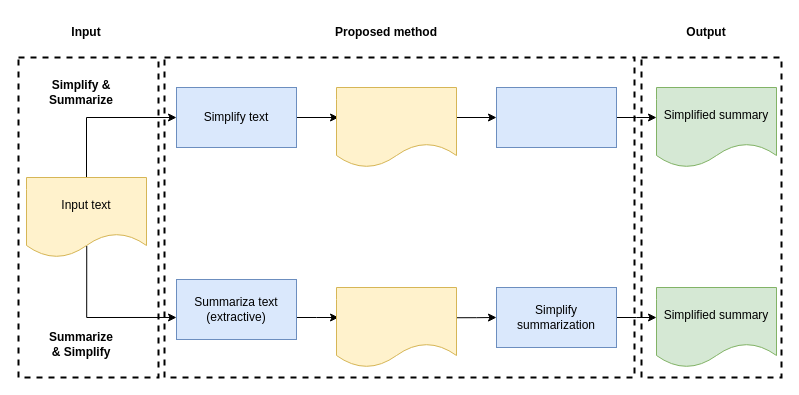
This 799x395 diagram has some shape labels left out. The shapes that lost their labels are listed below. From the top down, each one's centre as x and y in pixels, then its label:
(396,127): Simplified text
(556,117): Summarize simplified text (extractive)
(396,327): Extractive Summarization
